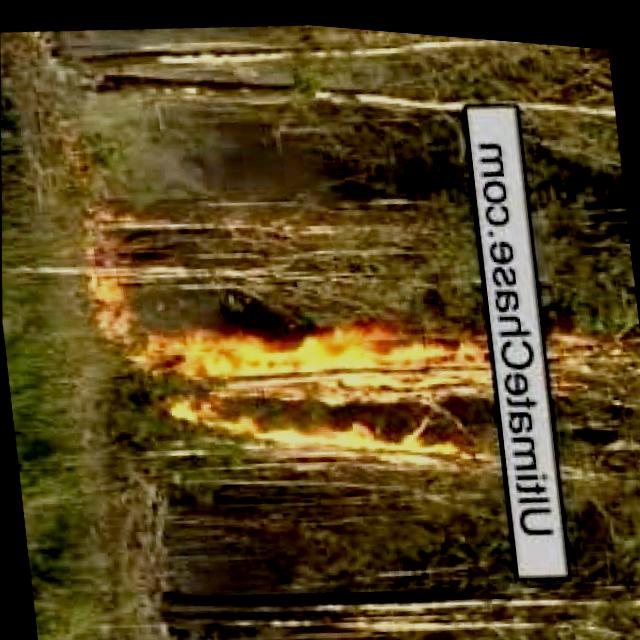helmet: (144, 278, 501, 499), (62, 228, 135, 360), (540, 303, 634, 403)
